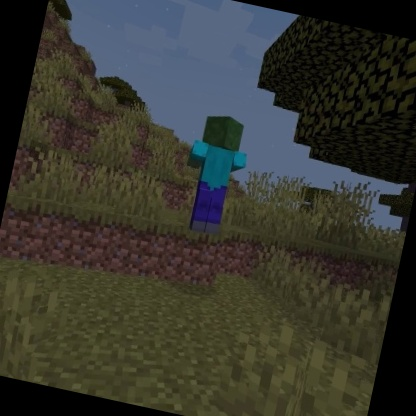zombie: (170, 107, 258, 245)
